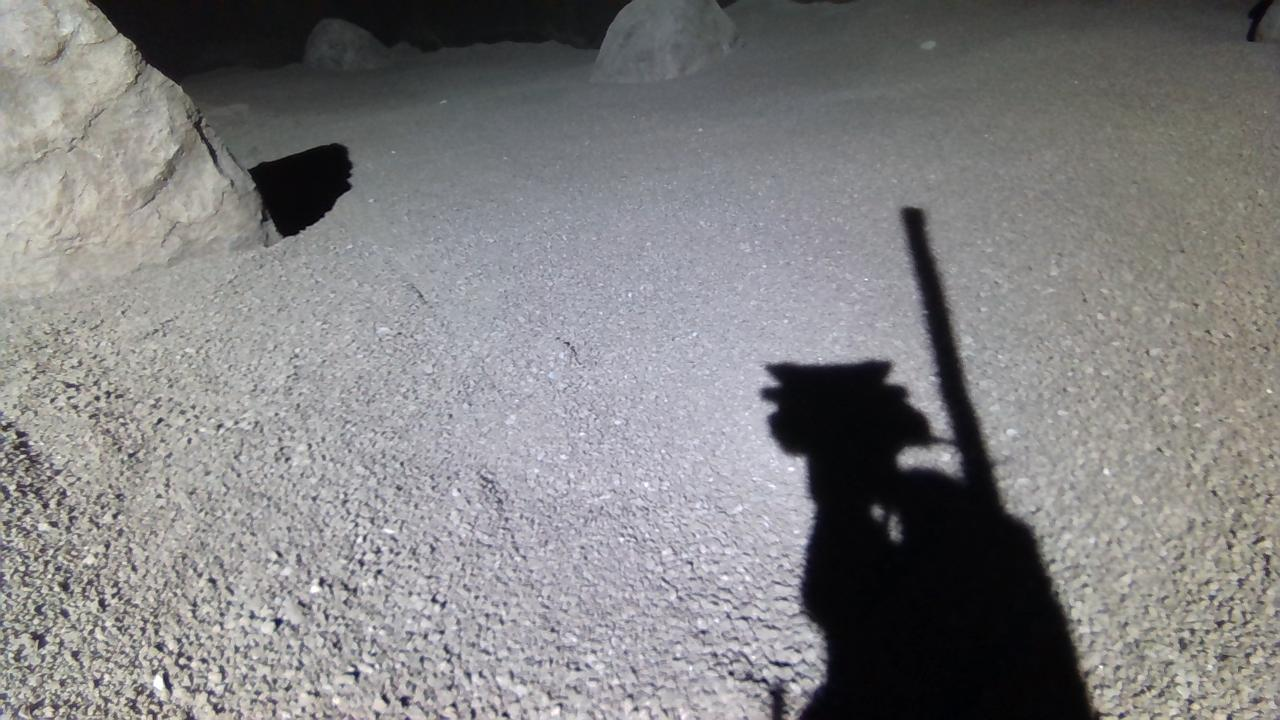rock: (0, 0, 277, 296), (592, 0, 739, 81), (302, 17, 390, 68), (1260, 0, 1280, 42)
